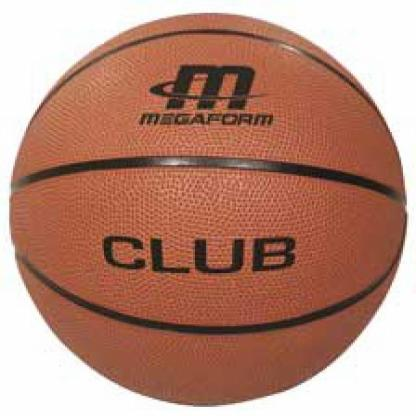basketball: (8, 13, 410, 408)
